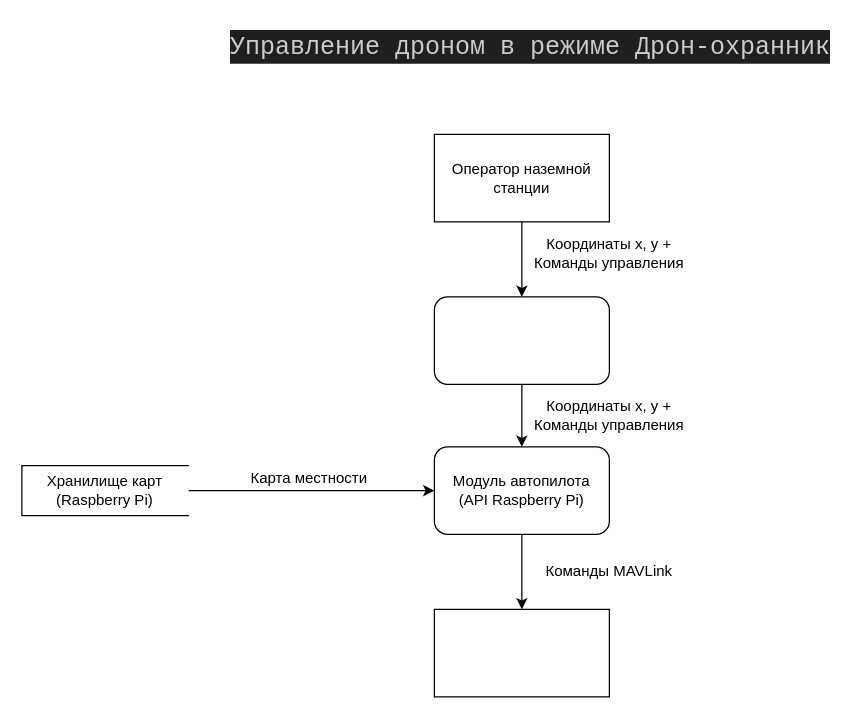
The diagram is 853 pixels wide and 719 high, and some of its shapes have lost their labels. Each missing label, with the centre of its shape:
Модуль отправки команд управления (Web интерфейс React): [521,340]
Полетный контроллер: [521,652]
